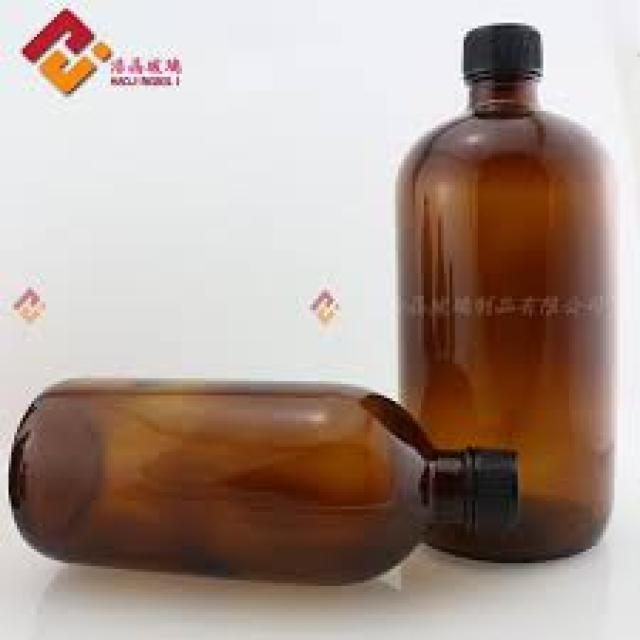Anorganik: (389, 74, 612, 557), (6, 376, 463, 583), (467, 441, 518, 529), (455, 20, 538, 74)
